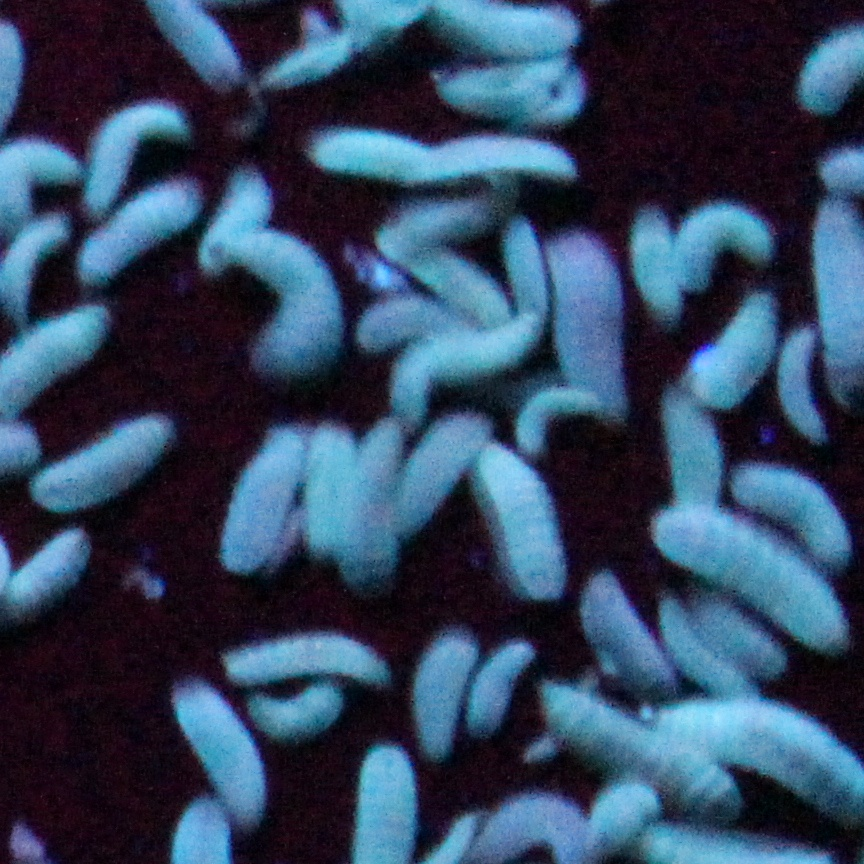larve: (660, 501, 846, 648), (540, 687, 740, 819), (214, 238, 348, 380), (548, 229, 628, 421), (173, 677, 270, 827), (473, 436, 562, 599), (728, 456, 852, 568), (31, 421, 175, 517), (387, 413, 495, 540), (577, 574, 679, 705), (75, 187, 201, 287), (80, 104, 192, 212), (221, 428, 303, 574), (436, 58, 587, 126), (224, 634, 391, 691), (683, 591, 787, 681), (662, 599, 754, 699), (411, 630, 477, 764), (4, 524, 94, 621), (355, 292, 487, 356), (677, 209, 770, 297), (354, 415, 399, 591), (660, 389, 719, 515), (416, 138, 572, 185), (462, 640, 530, 742), (775, 327, 830, 448), (201, 173, 267, 268), (585, 779, 658, 860), (311, 134, 426, 185), (515, 391, 605, 454), (248, 681, 344, 740), (307, 423, 350, 554), (634, 205, 685, 313), (9, 224, 62, 326), (395, 342, 438, 438)
